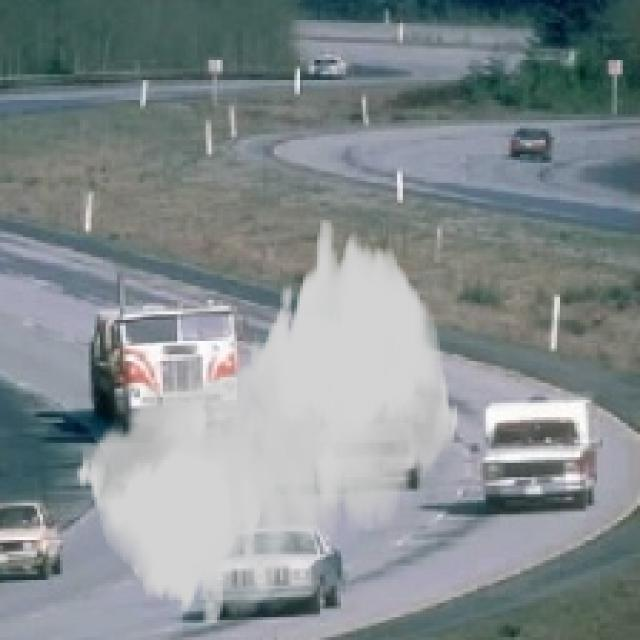smoke: (74, 220, 460, 626)
